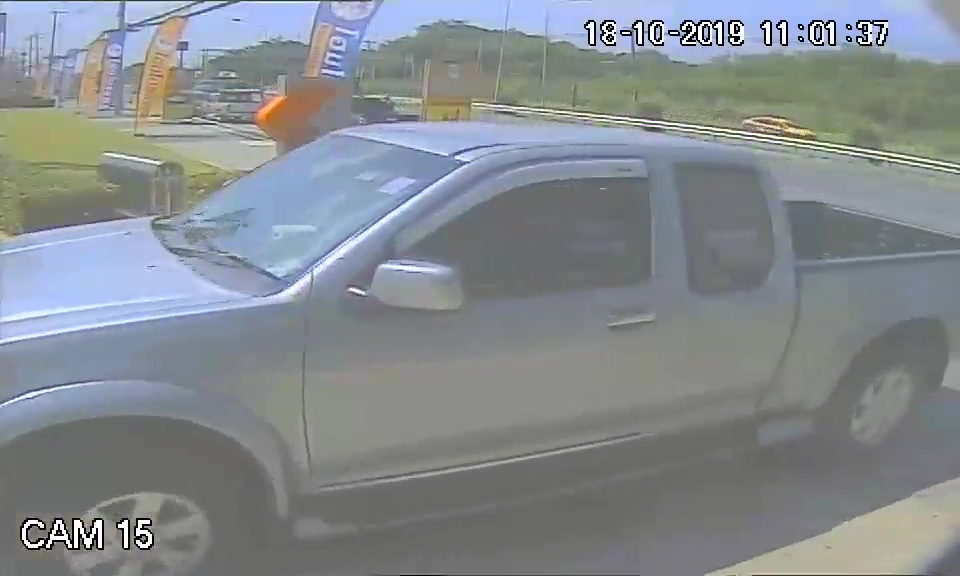pickup: (2, 118, 958, 521)
